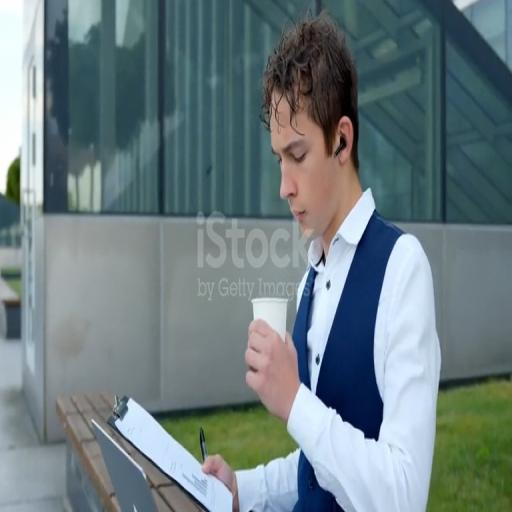earphone: (334, 123, 350, 163)
